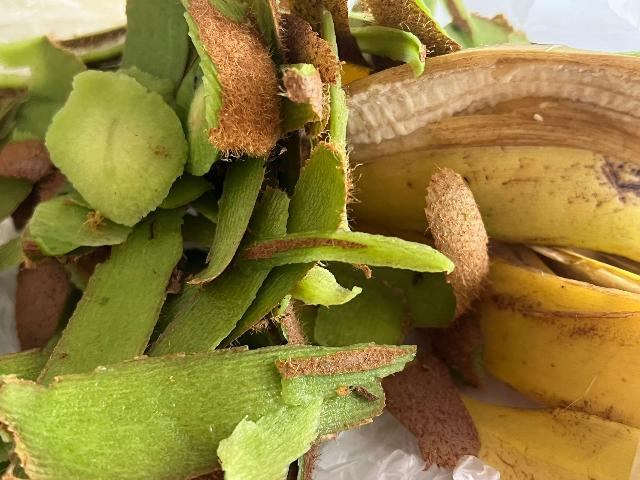Organik: (0, 335, 404, 480), (345, 42, 639, 176), (479, 254, 640, 410), (0, 41, 79, 336), (434, 389, 640, 478), (189, 2, 295, 157), (66, 84, 182, 206), (239, 221, 449, 283), (371, 355, 482, 467), (191, 157, 268, 304), (117, 0, 196, 103), (434, 171, 486, 326), (346, 0, 471, 54)
